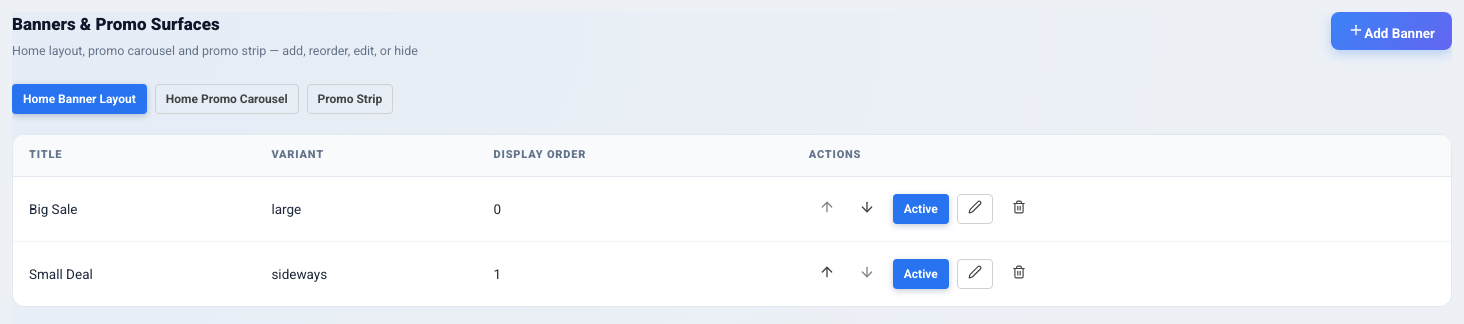
Test: BannersEditor › refetches with the new placement query parameter when the tab changes
Expected: the text "Big Sale" is shown, [13,176,255,241]
Click the tab "Home Promo Carousel" at (227, 99), box [155,84,299,114]
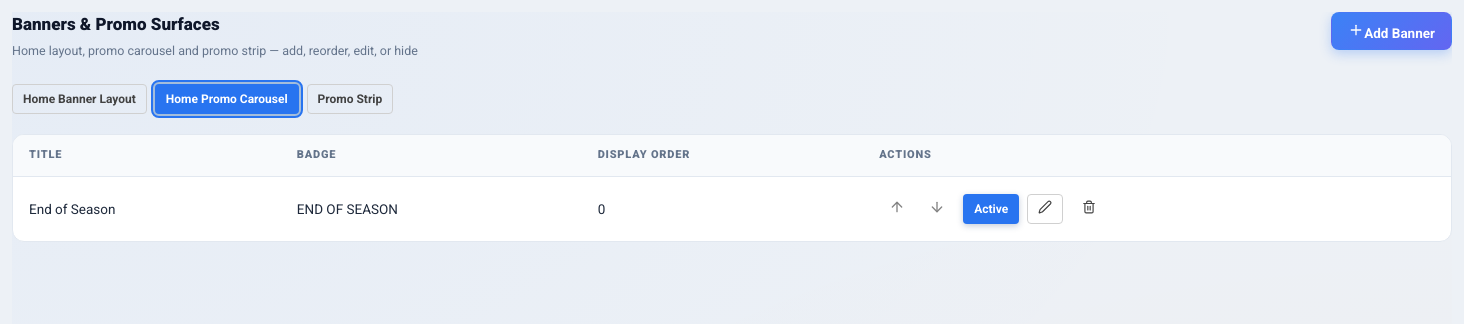
Expected: the text "End of Season" is shown, [13,176,281,241]
Expected: the text "Big Sale" is gone
